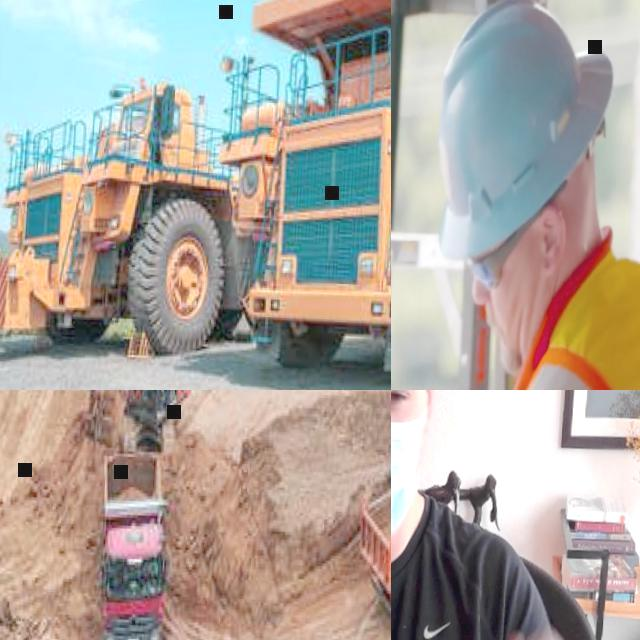helmet: (431, 0, 619, 262)
machinery: (0, 64, 261, 365), (211, 0, 391, 390), (86, 442, 181, 640), (346, 390, 391, 640), (79, 390, 197, 453)
mask: (391, 395, 430, 553)
no_mask: (489, 271, 552, 377)
no_vest: (391, 492, 516, 640)
person: (414, 0, 640, 390), (391, 390, 640, 640)
vest: (466, 246, 640, 390)
